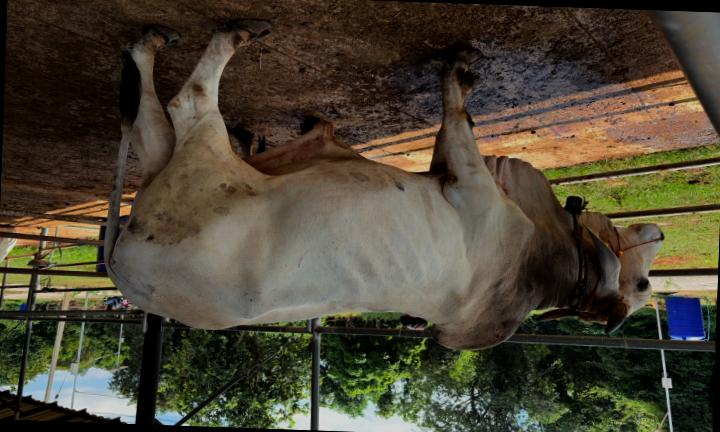Brahman: (105, 21, 662, 350)
